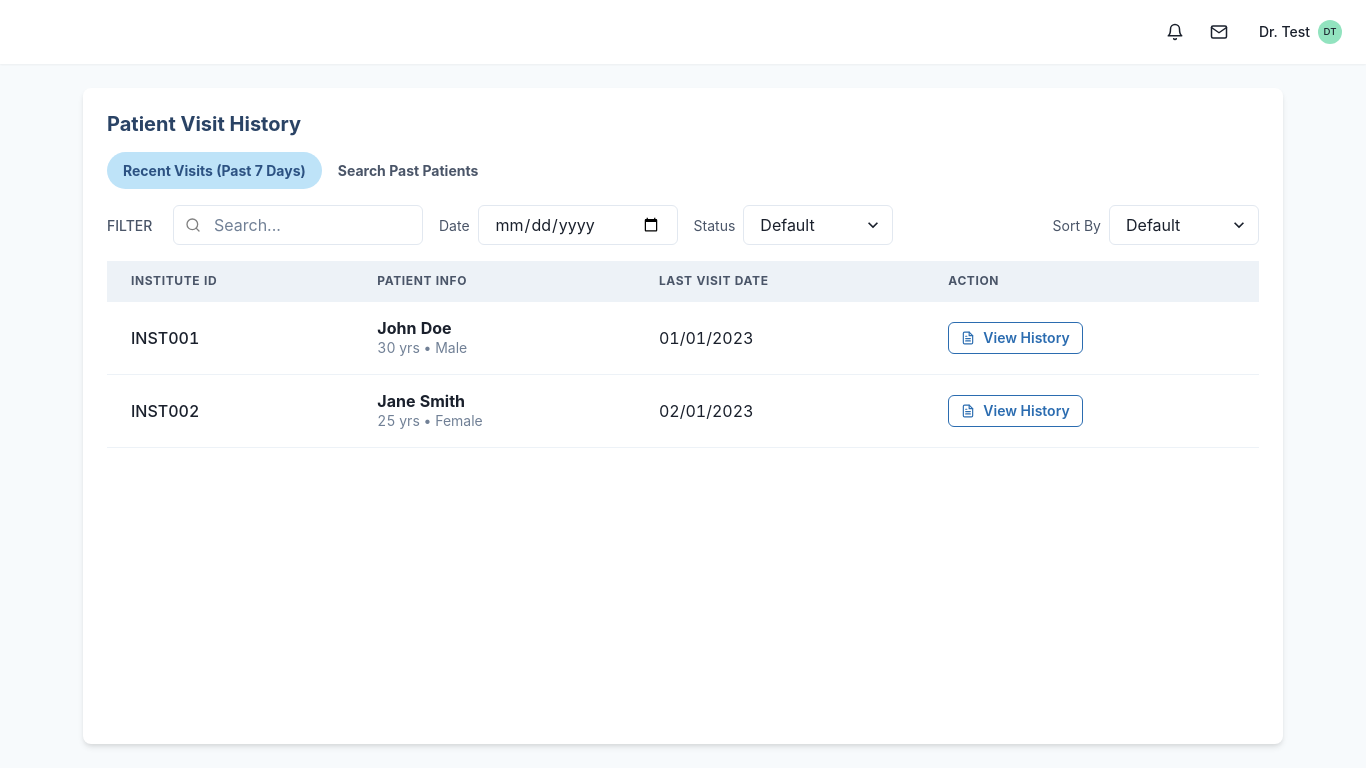
Test case: AllPatients Component › filters patients by search query
Expected: the text "John Doe" is shown, top-left (377, 318), bottom-right (452, 338)
Type "Jane" into the field with placeholder "Search..." at (298, 225), box top-left (173, 205), bottom-right (423, 245)
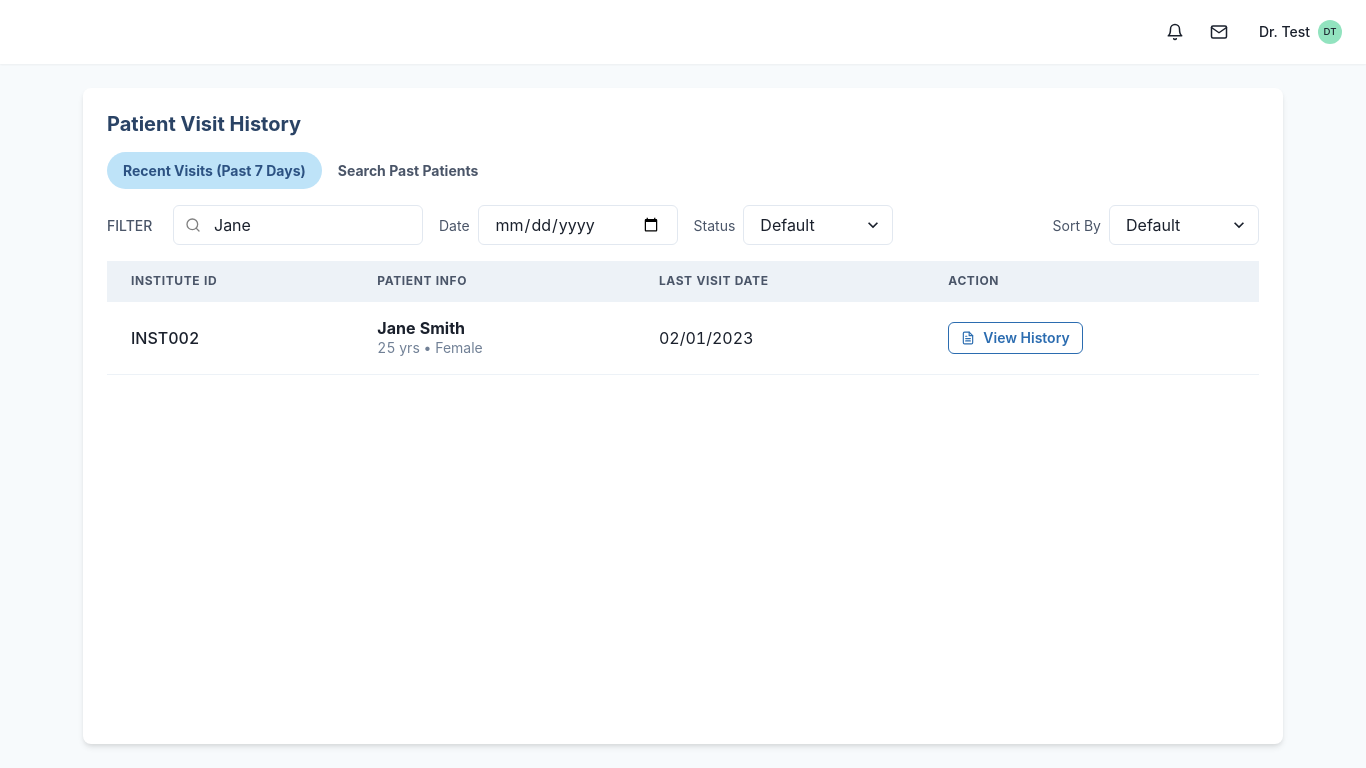
Expected: the text "Jane Smith" is shown, top-left (377, 318), bottom-right (465, 338)
Expected: the text "John Doe" is gone
